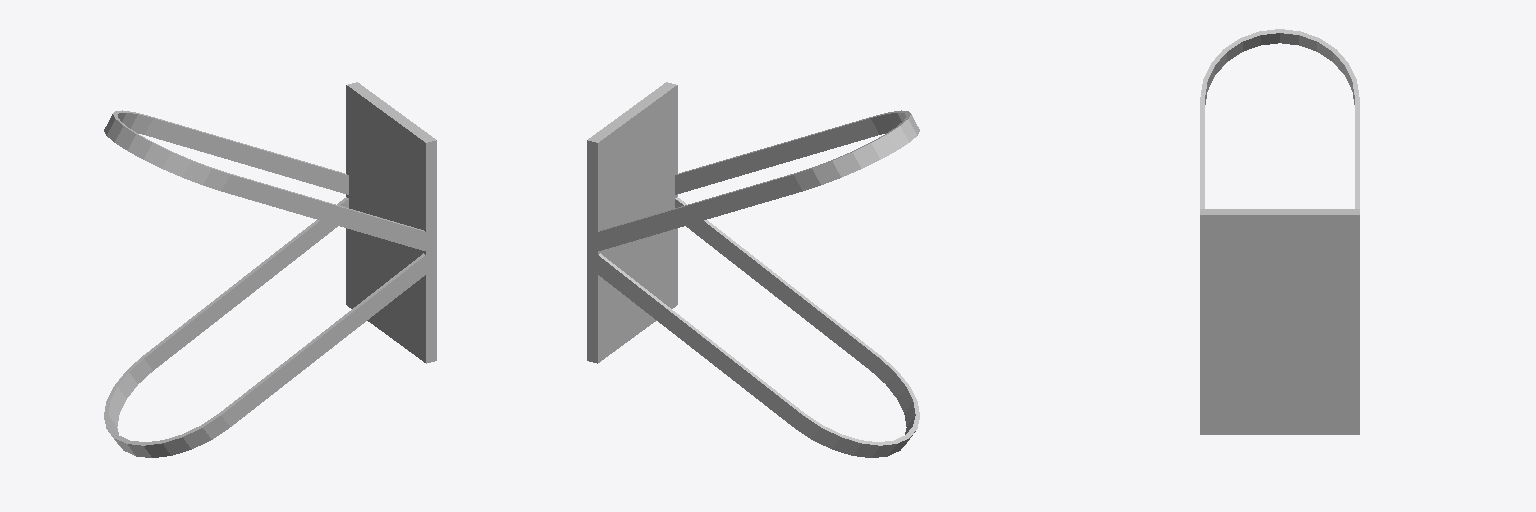
File: wall5.obj
3 views of the same model, side by side, from view 1: azimuth 30°, elevation 25°; view 2: azimuth 150°, elevation 25°; view 3: azimuth 270°, elevation 25° (orthographic).
Visible parts, largest first — view 1: Mesh1 Group1 Model, Mesh2 Group2 Model, Mesh3 Group3 Model; view 2: Mesh1 Group1 Model, Mesh2 Group2 Model, Mesh3 Group3 Model; view 3: Mesh1 Group1 Model, Mesh3 Group3 Model.
Boxes of the visible parts, x1,y1,x2,y2 form: Mesh1 Group1 Model: [346, 82, 436, 363]; Mesh2 Group2 Model: [104, 197, 435, 457]; Mesh3 Group3 Model: [104, 110, 435, 250]; Mesh1 Group1 Model: [587, 82, 677, 363]; Mesh2 Group2 Model: [589, 197, 919, 457]; Mesh3 Group3 Model: [588, 110, 919, 250]; Mesh1 Group1 Model: [1200, 209, 1359, 434]; Mesh3 Group3 Model: [1200, 29, 1359, 208].
Bounding box in the file's own units: 17.44 × 19.15 × 8.5.